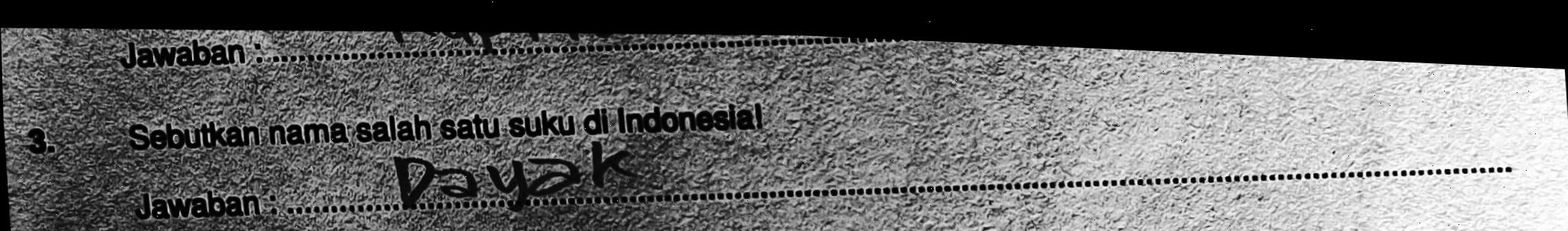jawaban: (385, 132, 635, 206)
